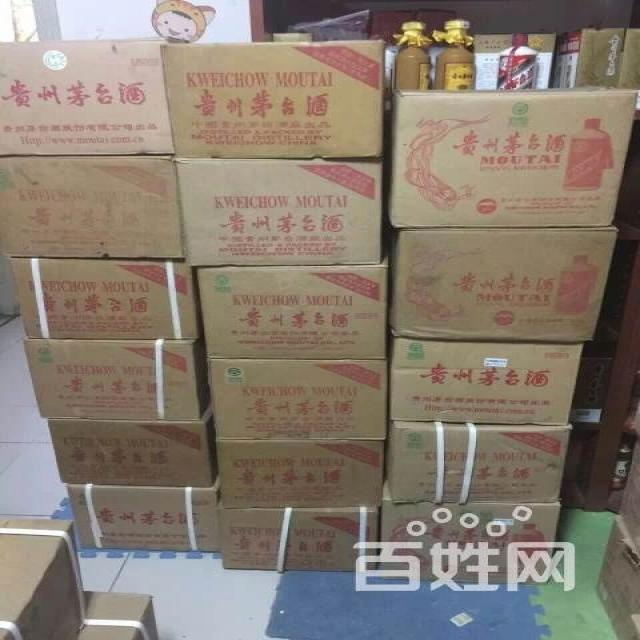box: (389, 87, 637, 227), (386, 225, 618, 343), (160, 40, 385, 157), (197, 224, 390, 359), (175, 156, 383, 266), (0, 36, 189, 156), (0, 154, 183, 257), (378, 473, 561, 574), (386, 336, 583, 426), (10, 254, 204, 339), (24, 333, 213, 420), (383, 419, 572, 502), (47, 397, 219, 487), (207, 359, 387, 440), (65, 473, 222, 552), (219, 496, 378, 570), (216, 440, 383, 509)
